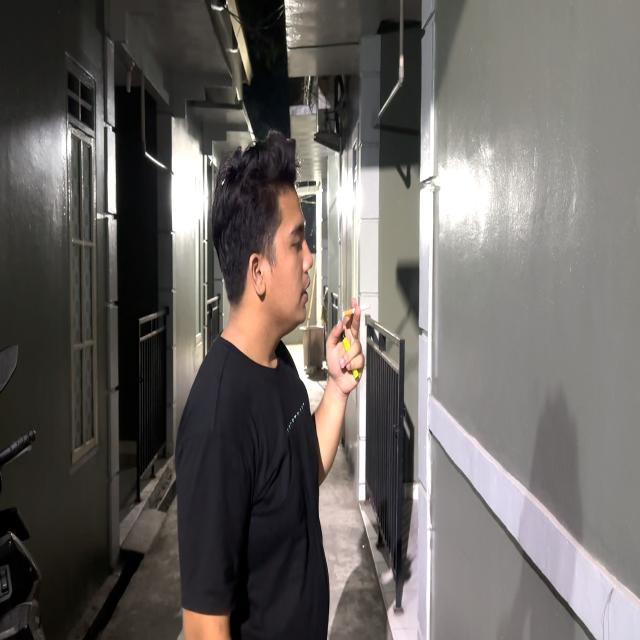cigarette: (335, 290, 381, 328)
smoking: (211, 122, 377, 498)
